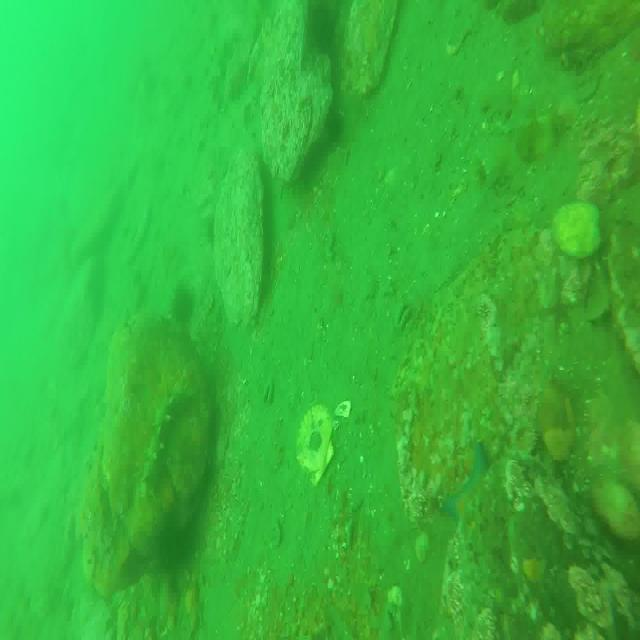scallop: (296, 406, 336, 484)
starfish: (441, 449, 507, 563)
